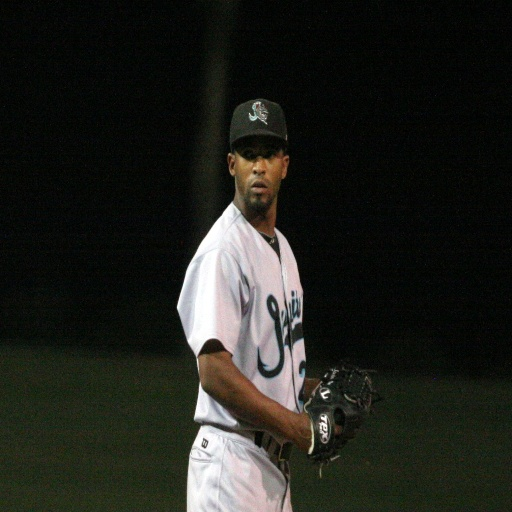hand: (293, 410, 342, 460)
